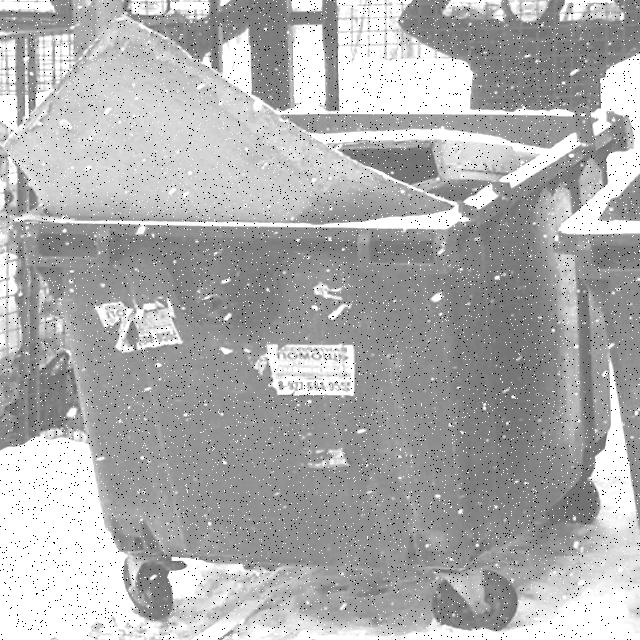Trashcan: (8, 7, 637, 614)
